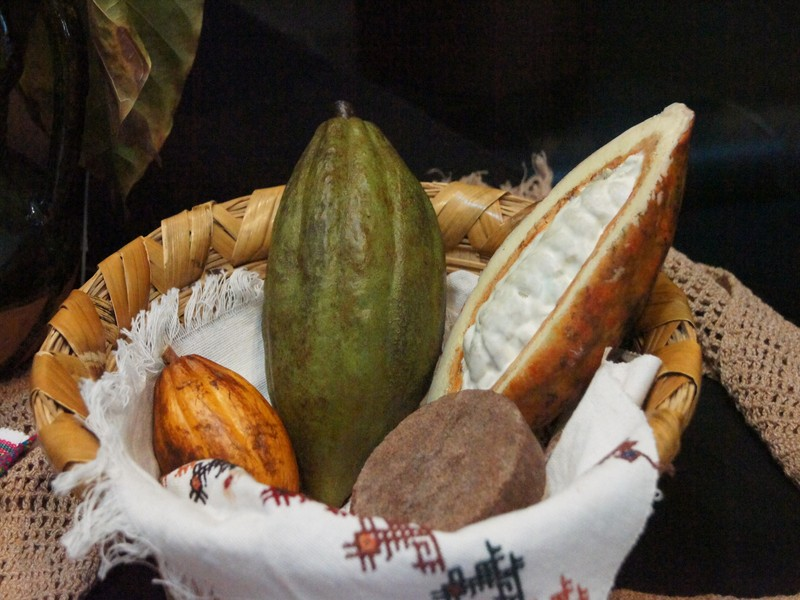Cacaopod: (264, 98, 445, 510)
